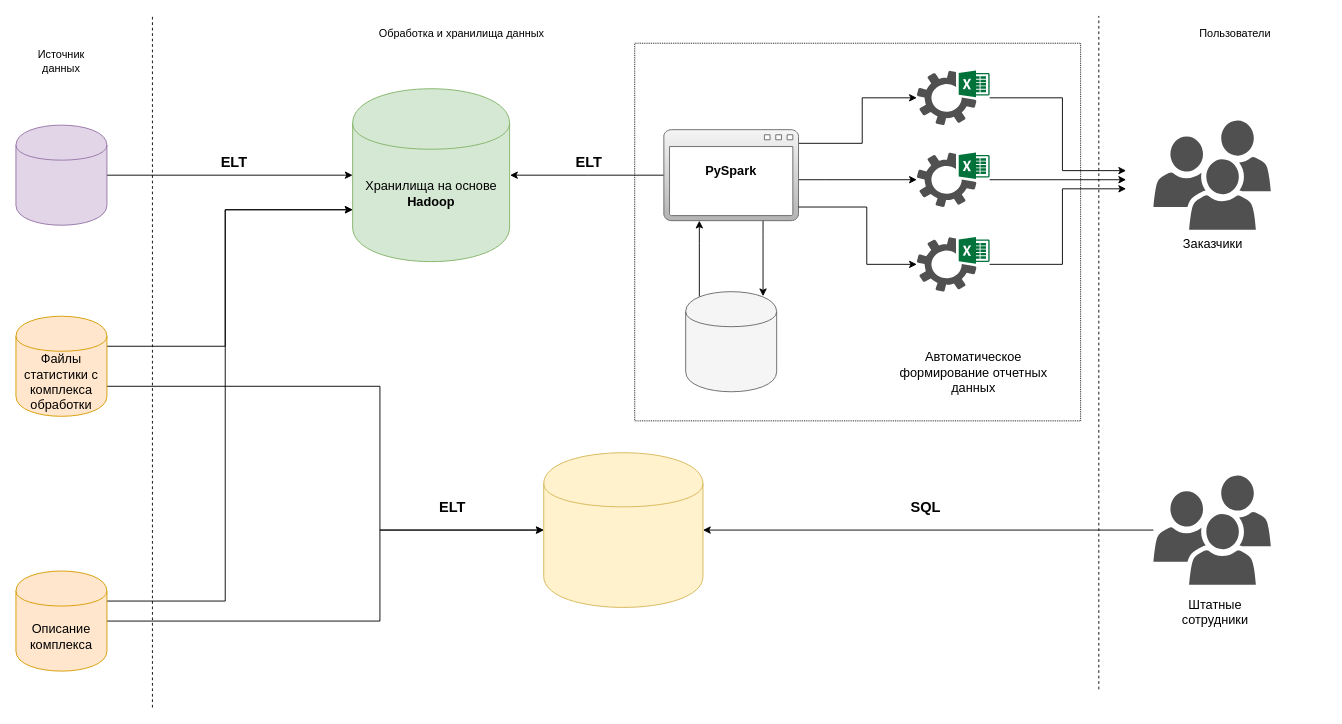
Some shapes in this 1342 by 724 pixel diagram are drawn without their labels. The centre of each missing label's shape, as x and y in pixels:
База данных RIPE: the point at 61,174
Повторные данные: the point at 731,341
Хранилище на основе ClickHouse: the point at 623,529
